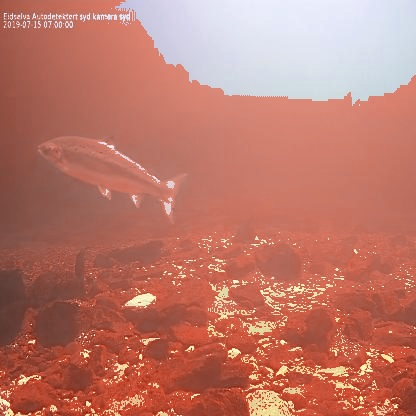salmon: (35, 129, 189, 227)
